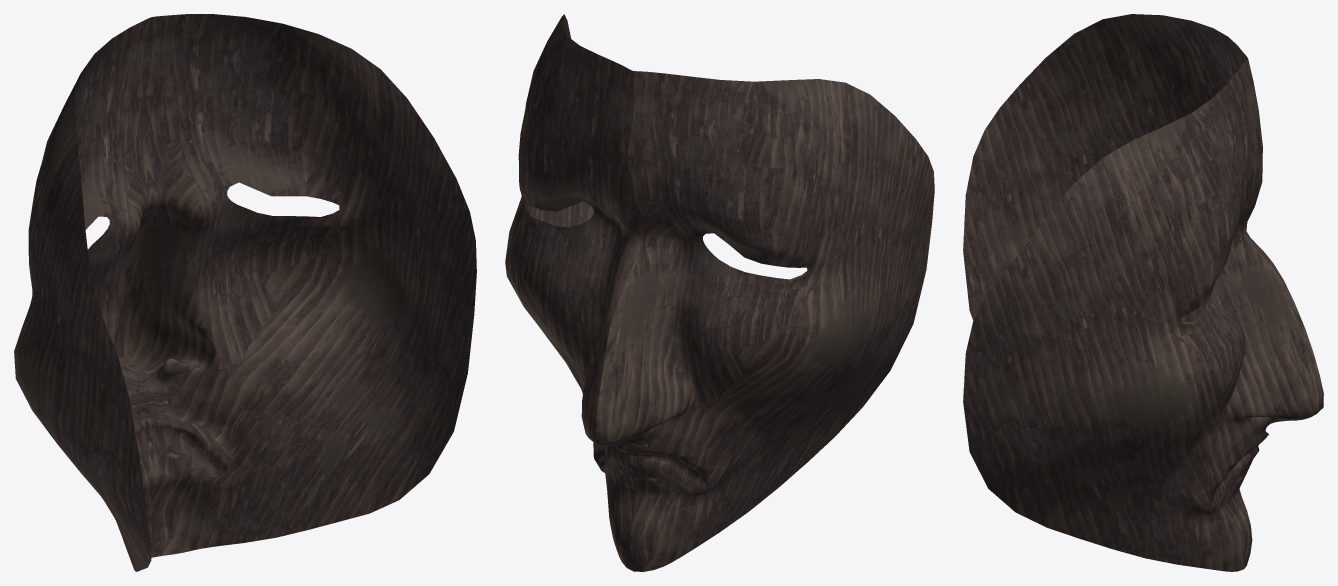
File: sad_mask_wood_01.fbx
The picture shows the model from 3 angles, left to right: view 1: azimuth 30°, elevation 25°; view 2: azimuth 150°, elevation 25°; view 3: azimuth 270°, elevation 25°; orthographic projection. The views are drawn at different scales.
Visible parts, largest first — view 1: Sad mask; view 2: Sad mask; view 3: Sad mask.
Boxes of the visible parts, bbox=[...] form: Sad mask: bbox=[14, 14, 476, 571]; Sad mask: bbox=[505, 14, 934, 571]; Sad mask: bbox=[963, 14, 1323, 571].
Size of the model in its own units: 201 by 278 by 179.
Materials: 1 (1 with a texture image).
